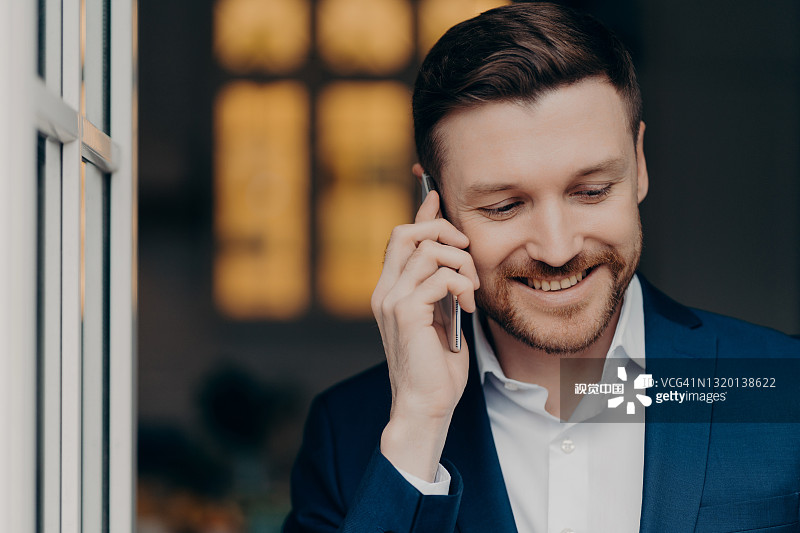calling: (361, 161, 492, 445)
